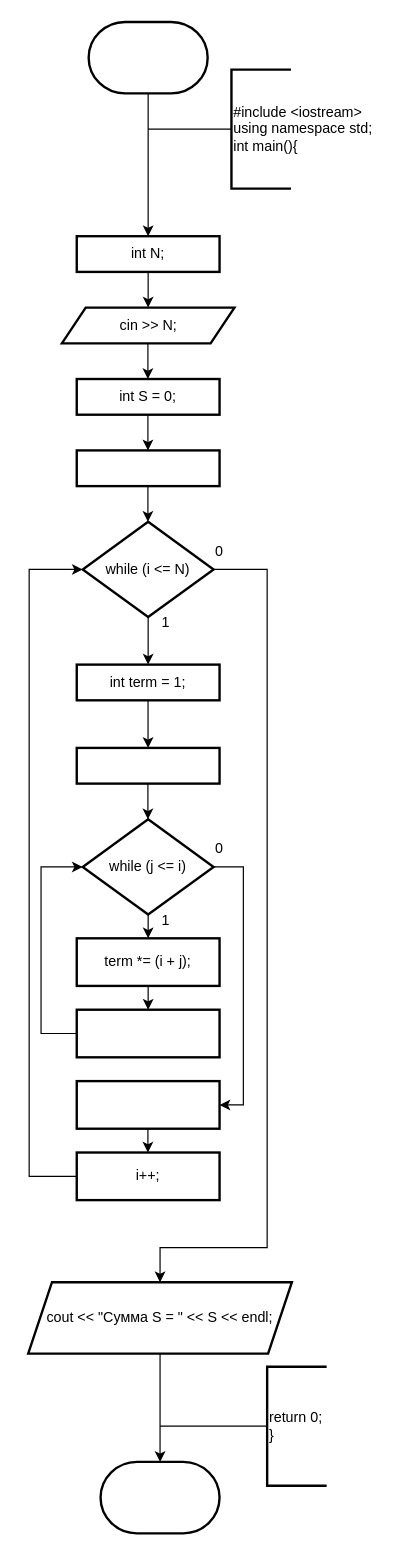
Image size: 394x1554. Some labels were removed from this diagram. The centre of each missing label's shape, as x and y in pixels:
int i = 1;: (147,468)
int j = 0;: (147,765)
j++: (147,1033)
S += term;: (147,1104)
Конец: (159,1497)
Начало: (147,57)
